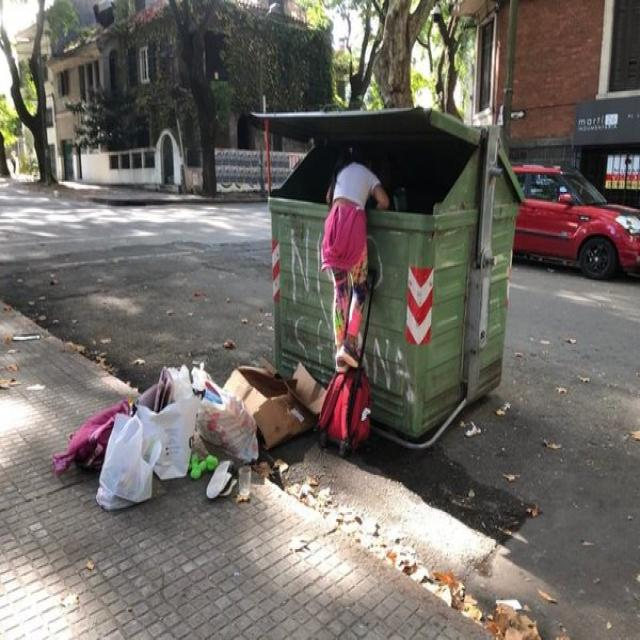garbage: (49, 350, 378, 503)
